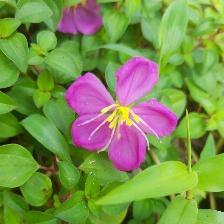malabar melastome: (65, 54, 180, 176)
